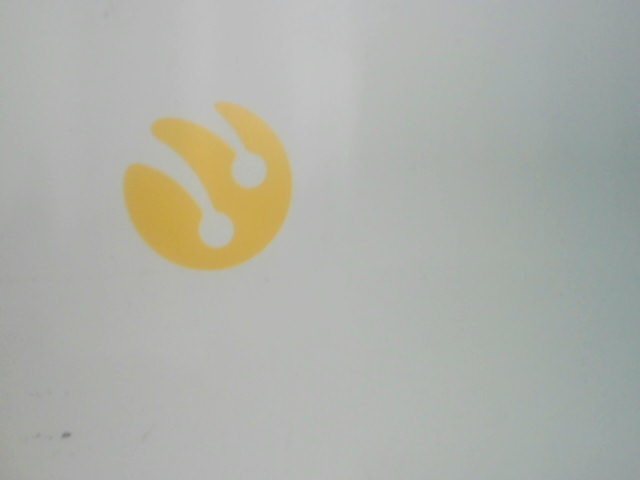AV_H3600Yellow: (111, 96, 309, 275)
